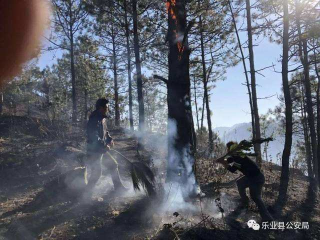smoke: (132, 107, 221, 227)
